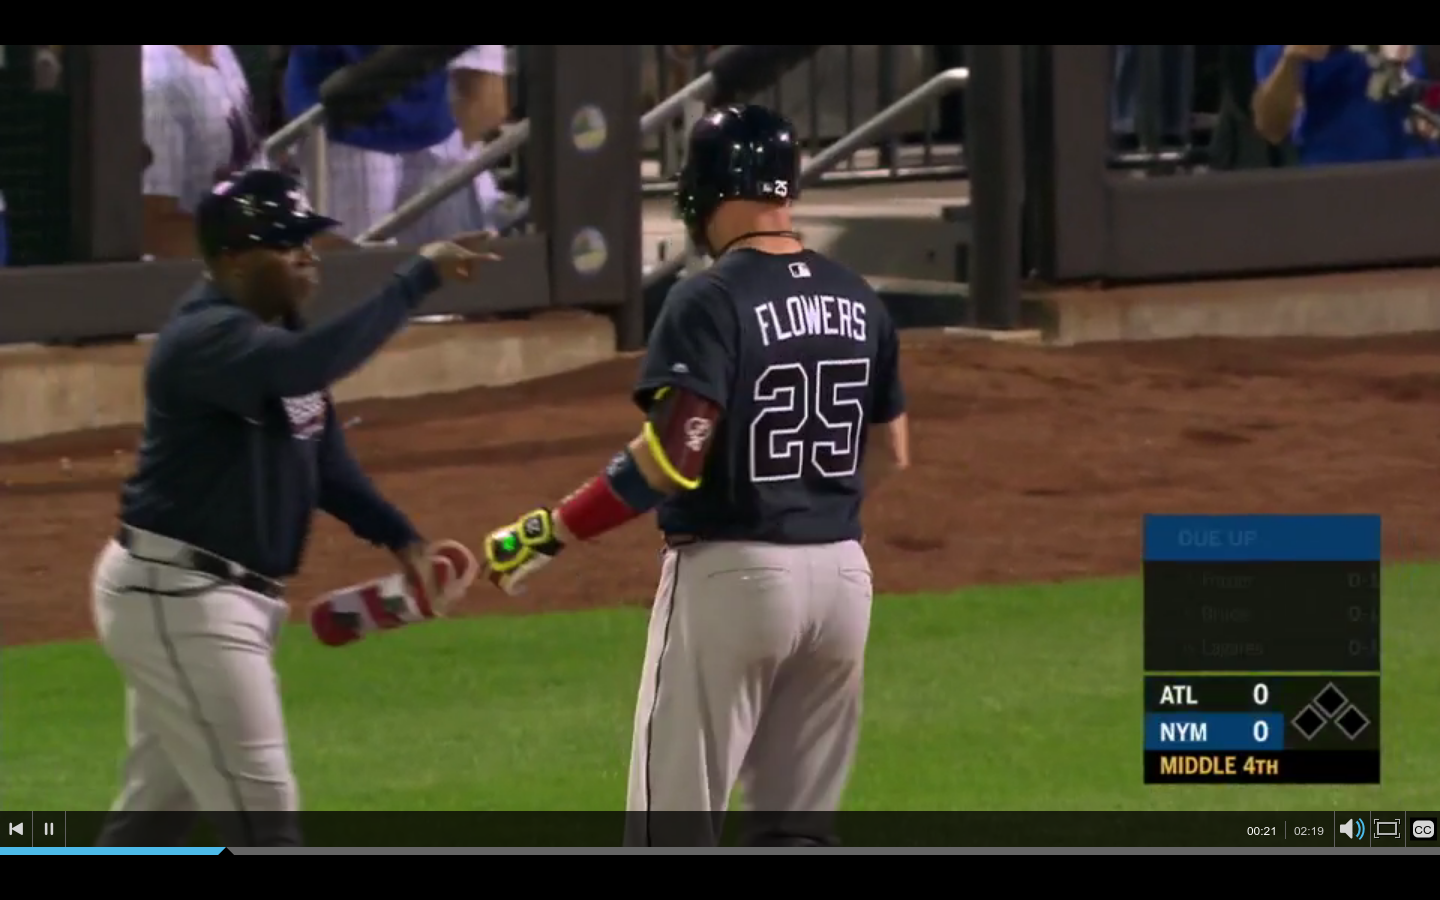baseball player: (484, 106, 919, 828), (72, 157, 488, 831)
